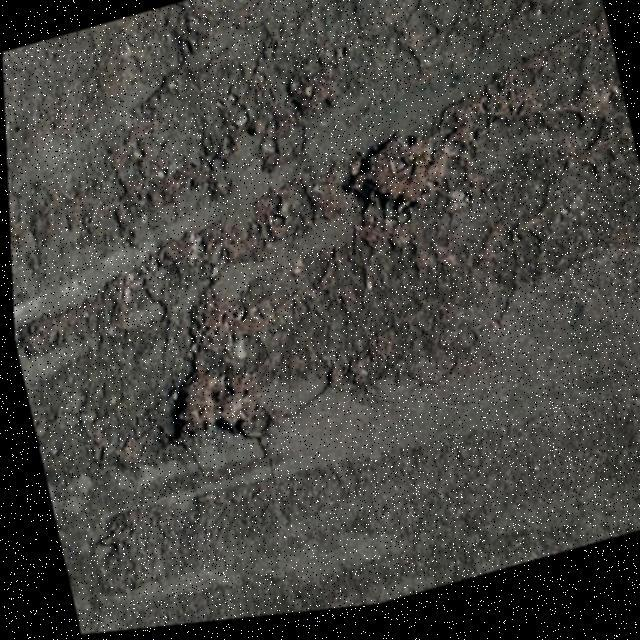pothole: (328, 124, 463, 238), (152, 353, 264, 458)
